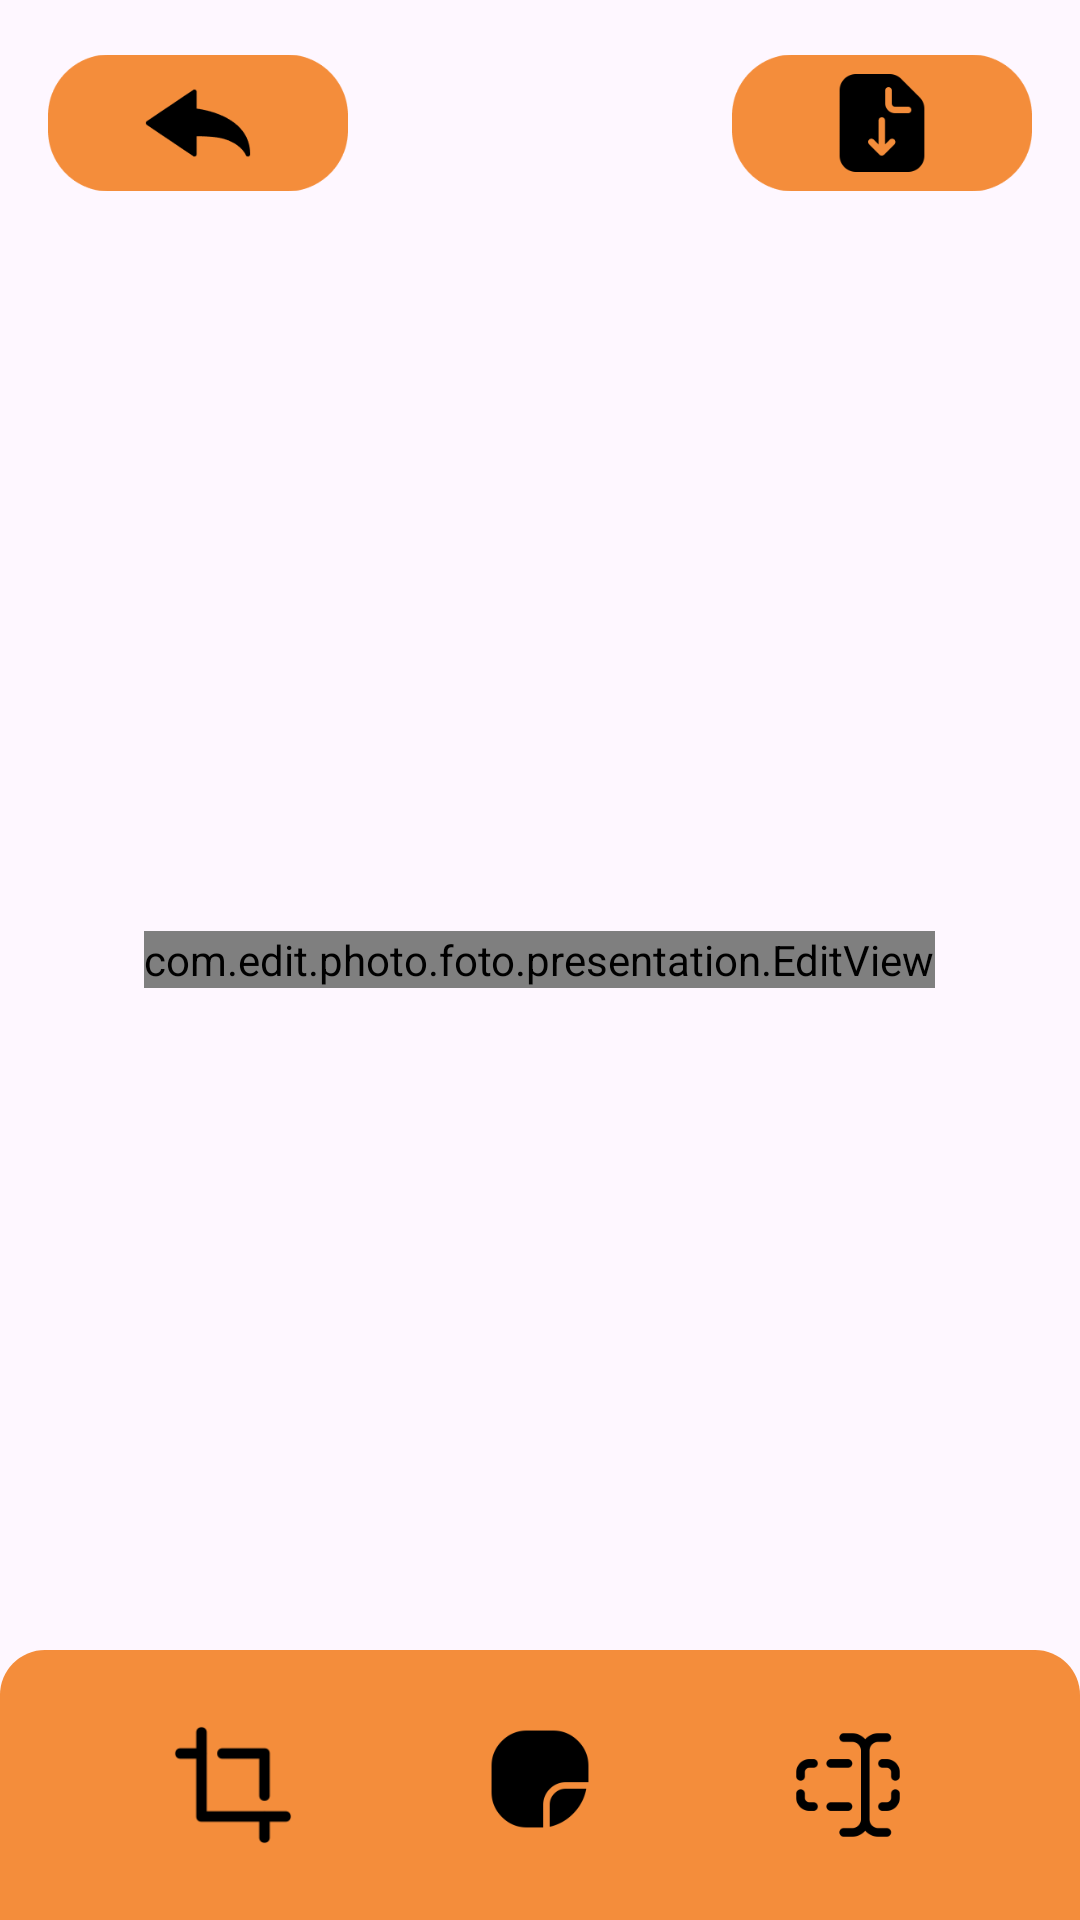

Icon bounding boxes for this 1080*1920 phone screenshot, format detection(x1, y1, x2, y2):
back: detection(48, 55, 348, 191)
cut: detection(175, 1727, 291, 1843)
save: detection(732, 55, 1032, 191)
stick: detection(491, 1730, 589, 1828)
text: detection(796, 1733, 900, 1837)
